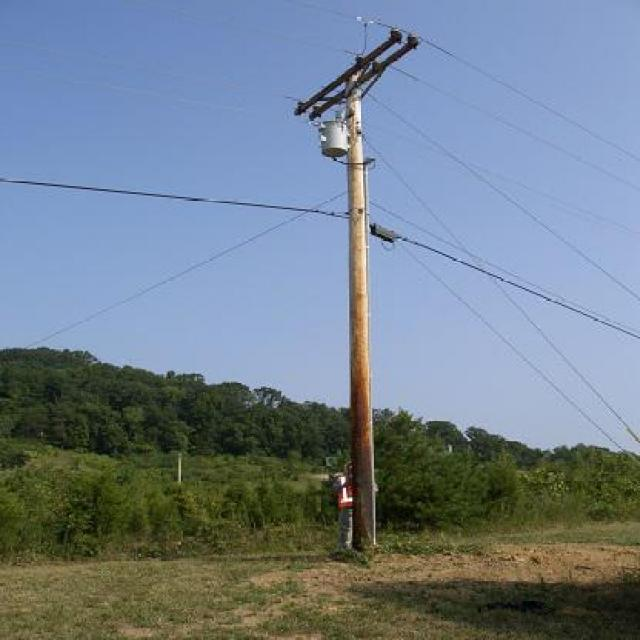pole: (278, 15, 438, 552)
